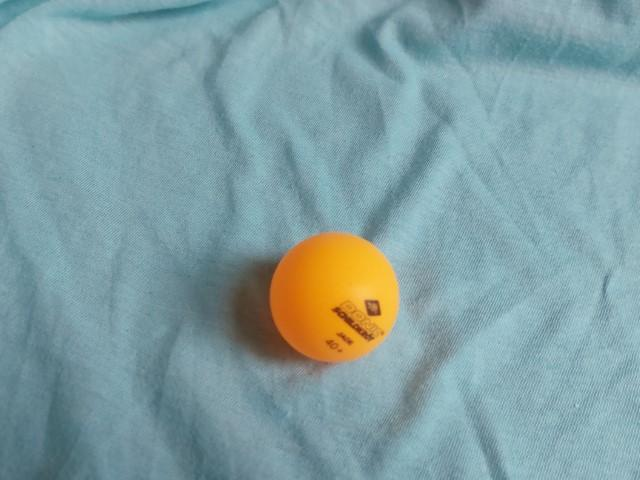oball: (263, 225, 408, 368)
